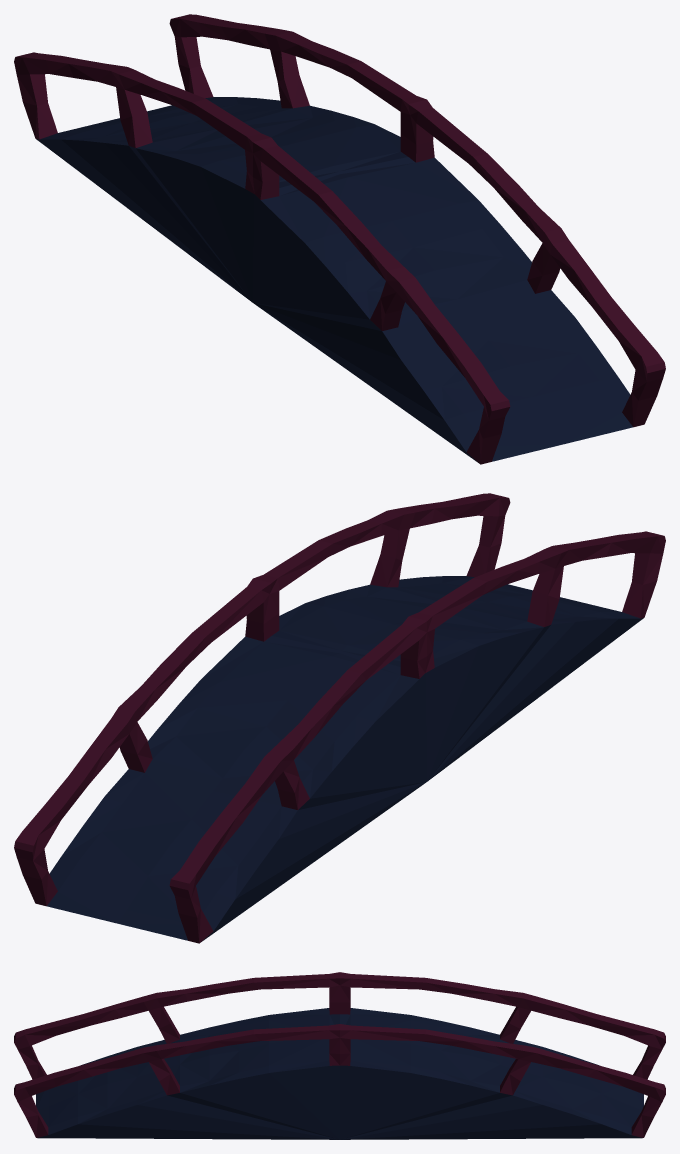
Rendered from prop_castlebridge.FBX.
3 renders of one model, top to bottom at view 1: azimuth 30°, elevation 25°; view 2: azimuth 150°, elevation 25°; view 3: azimuth 270°, elevation 25°, orthographic. The views are drawn at different scales.
Visible parts, largest first — view 1: castle_bridge; view 2: castle_bridge; view 3: castle_bridge.
Boxes of the visible parts, left/top/right/bottom form: castle_bridge: left=14, top=14, right=665, bottom=464; castle_bridge: left=14, top=493, right=665, bottom=943; castle_bridge: left=14, top=972, right=665, bottom=1139.
Bounding box in the file's own units: 4 × 3.52 × 18.98.
